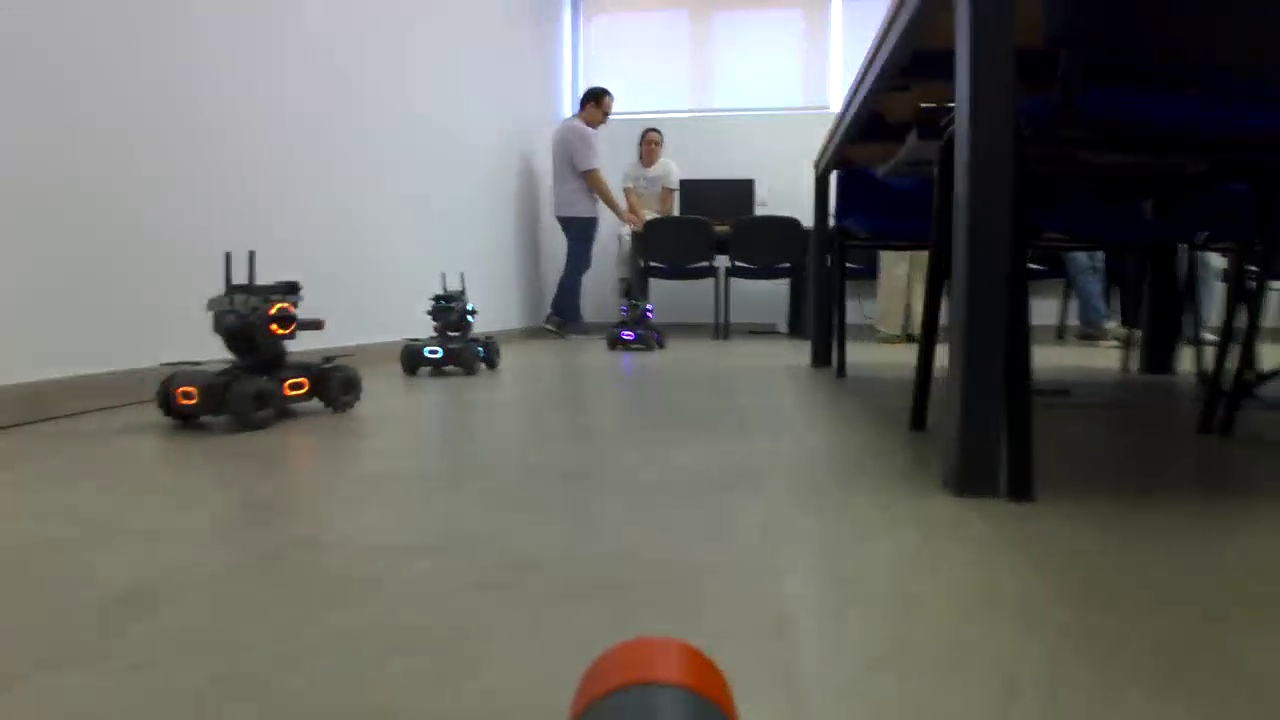robot: (153, 292, 358, 450), (405, 295, 505, 380), (613, 300, 668, 340)
